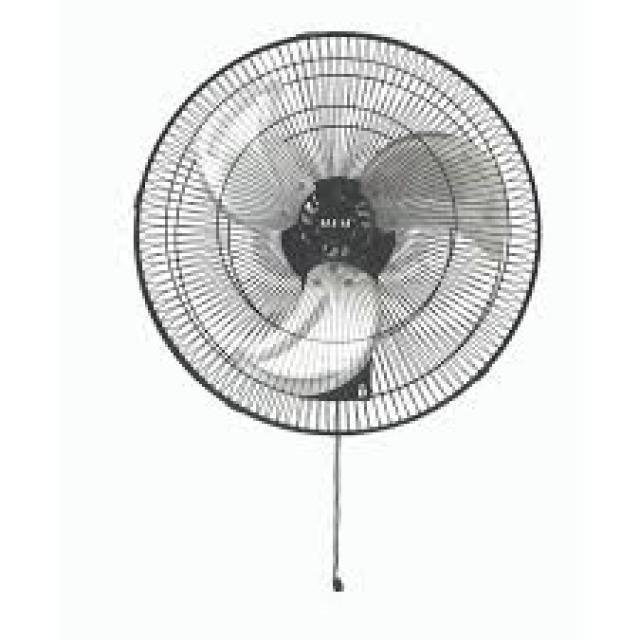fan: (100, 24, 574, 608)
